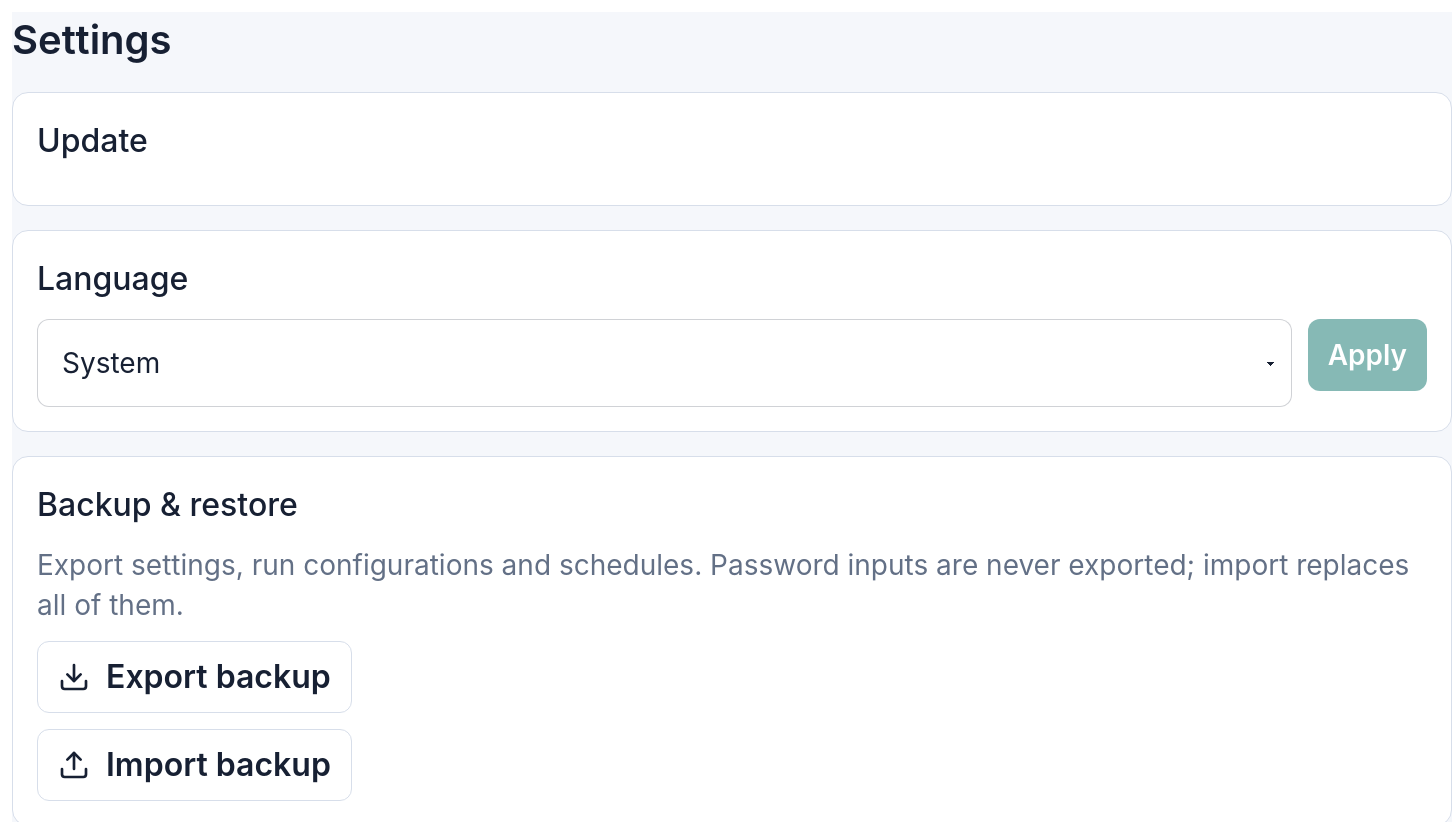
Test: language switching › persists a new choice and switches the interface over
The image size is (1452, 822).
Select "简体中文" in the dropdown labelled "Language". click: (664, 363)
box: [37, 319, 1292, 407]
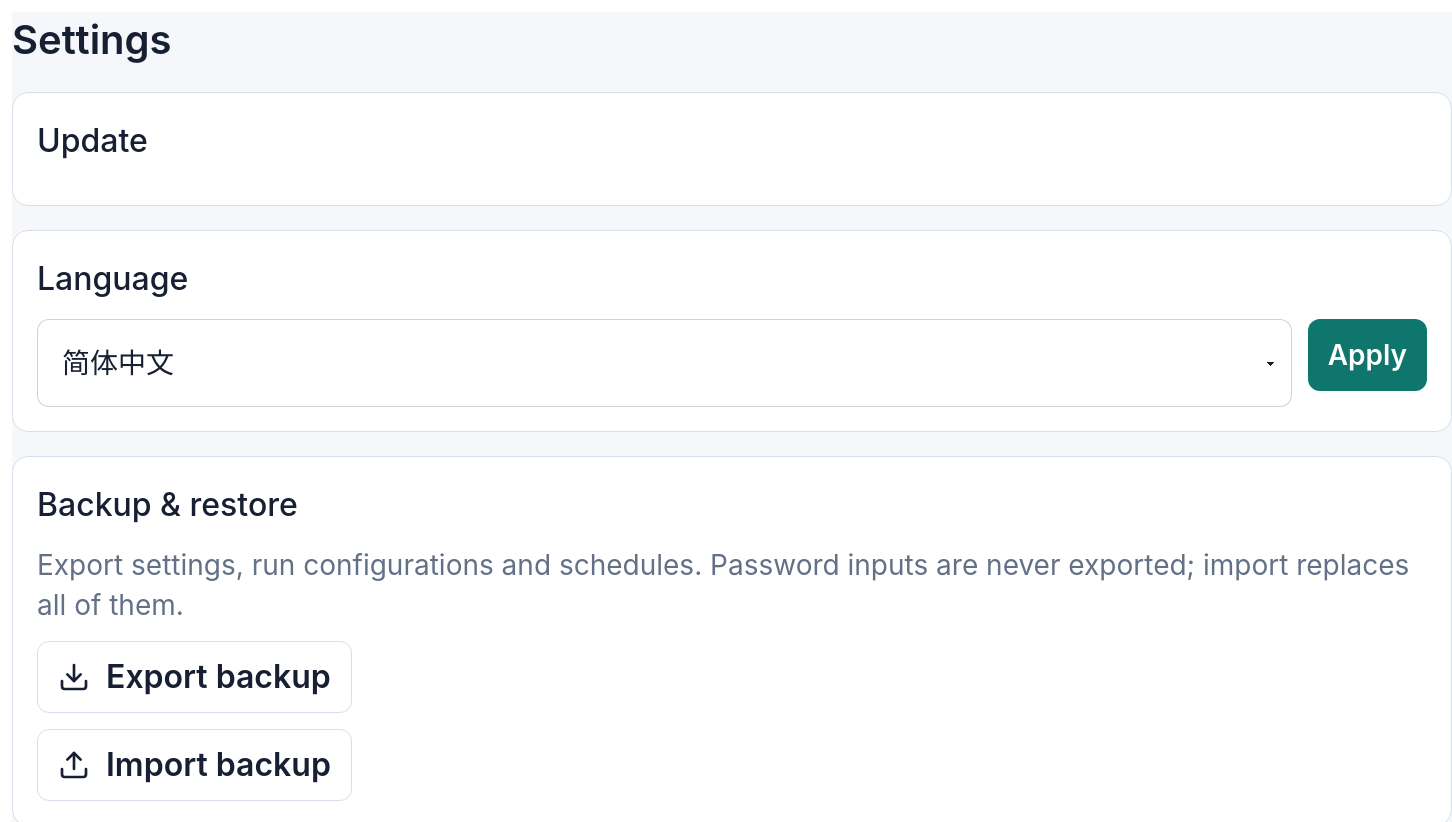
Click the button "Apply". click: (1367, 355)
box: [1308, 319, 1427, 391]
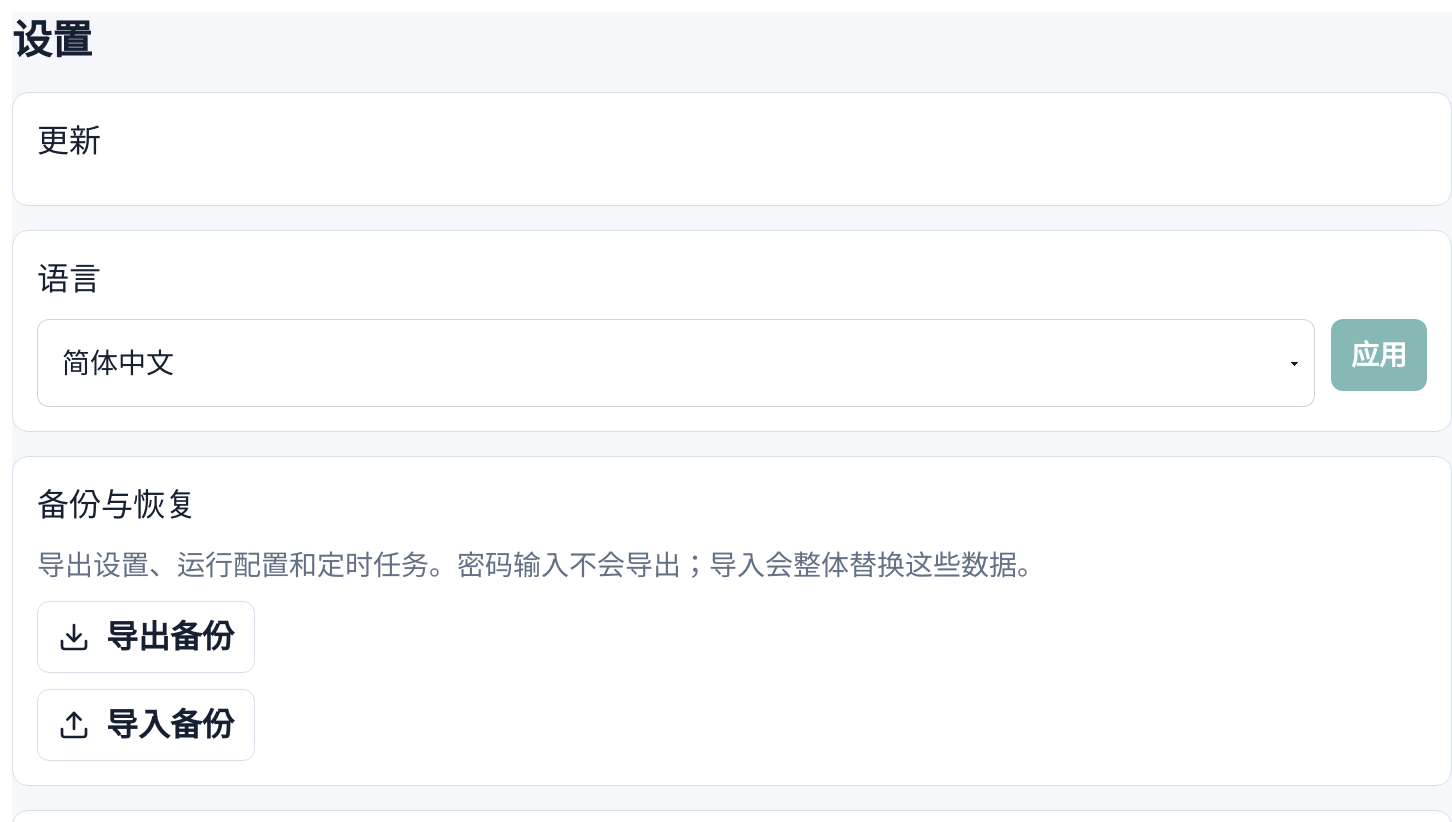
Result: the heading "设置" is shown at [12, 15, 92, 64]
